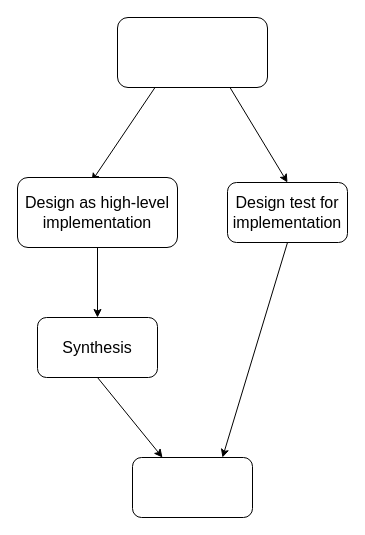
The diagram is 365 pixels wide and 535 high, and some of its shapes have lost their labels. The centre of each missing label's shape, as x and y in pixels:
"Co-sim" goes at (x=192, y=487).
"Define your function/algorithm" goes at (x=192, y=52).
